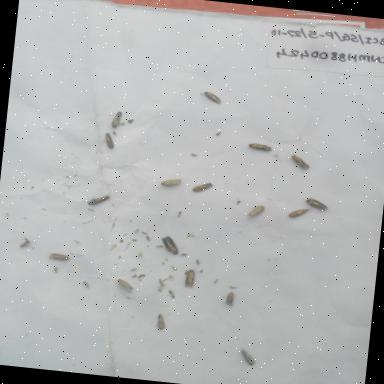pbw: (112, 276, 138, 297), (158, 234, 182, 256), (85, 190, 112, 209), (304, 196, 332, 214), (288, 152, 312, 172), (180, 267, 200, 290), (160, 174, 185, 192), (238, 346, 258, 368), (246, 202, 267, 222), (246, 139, 274, 154), (189, 180, 215, 196), (287, 206, 313, 222), (46, 250, 74, 264), (108, 110, 126, 131), (201, 90, 226, 105), (221, 290, 239, 310), (102, 131, 118, 151), (154, 312, 168, 331), (17, 237, 31, 250)
